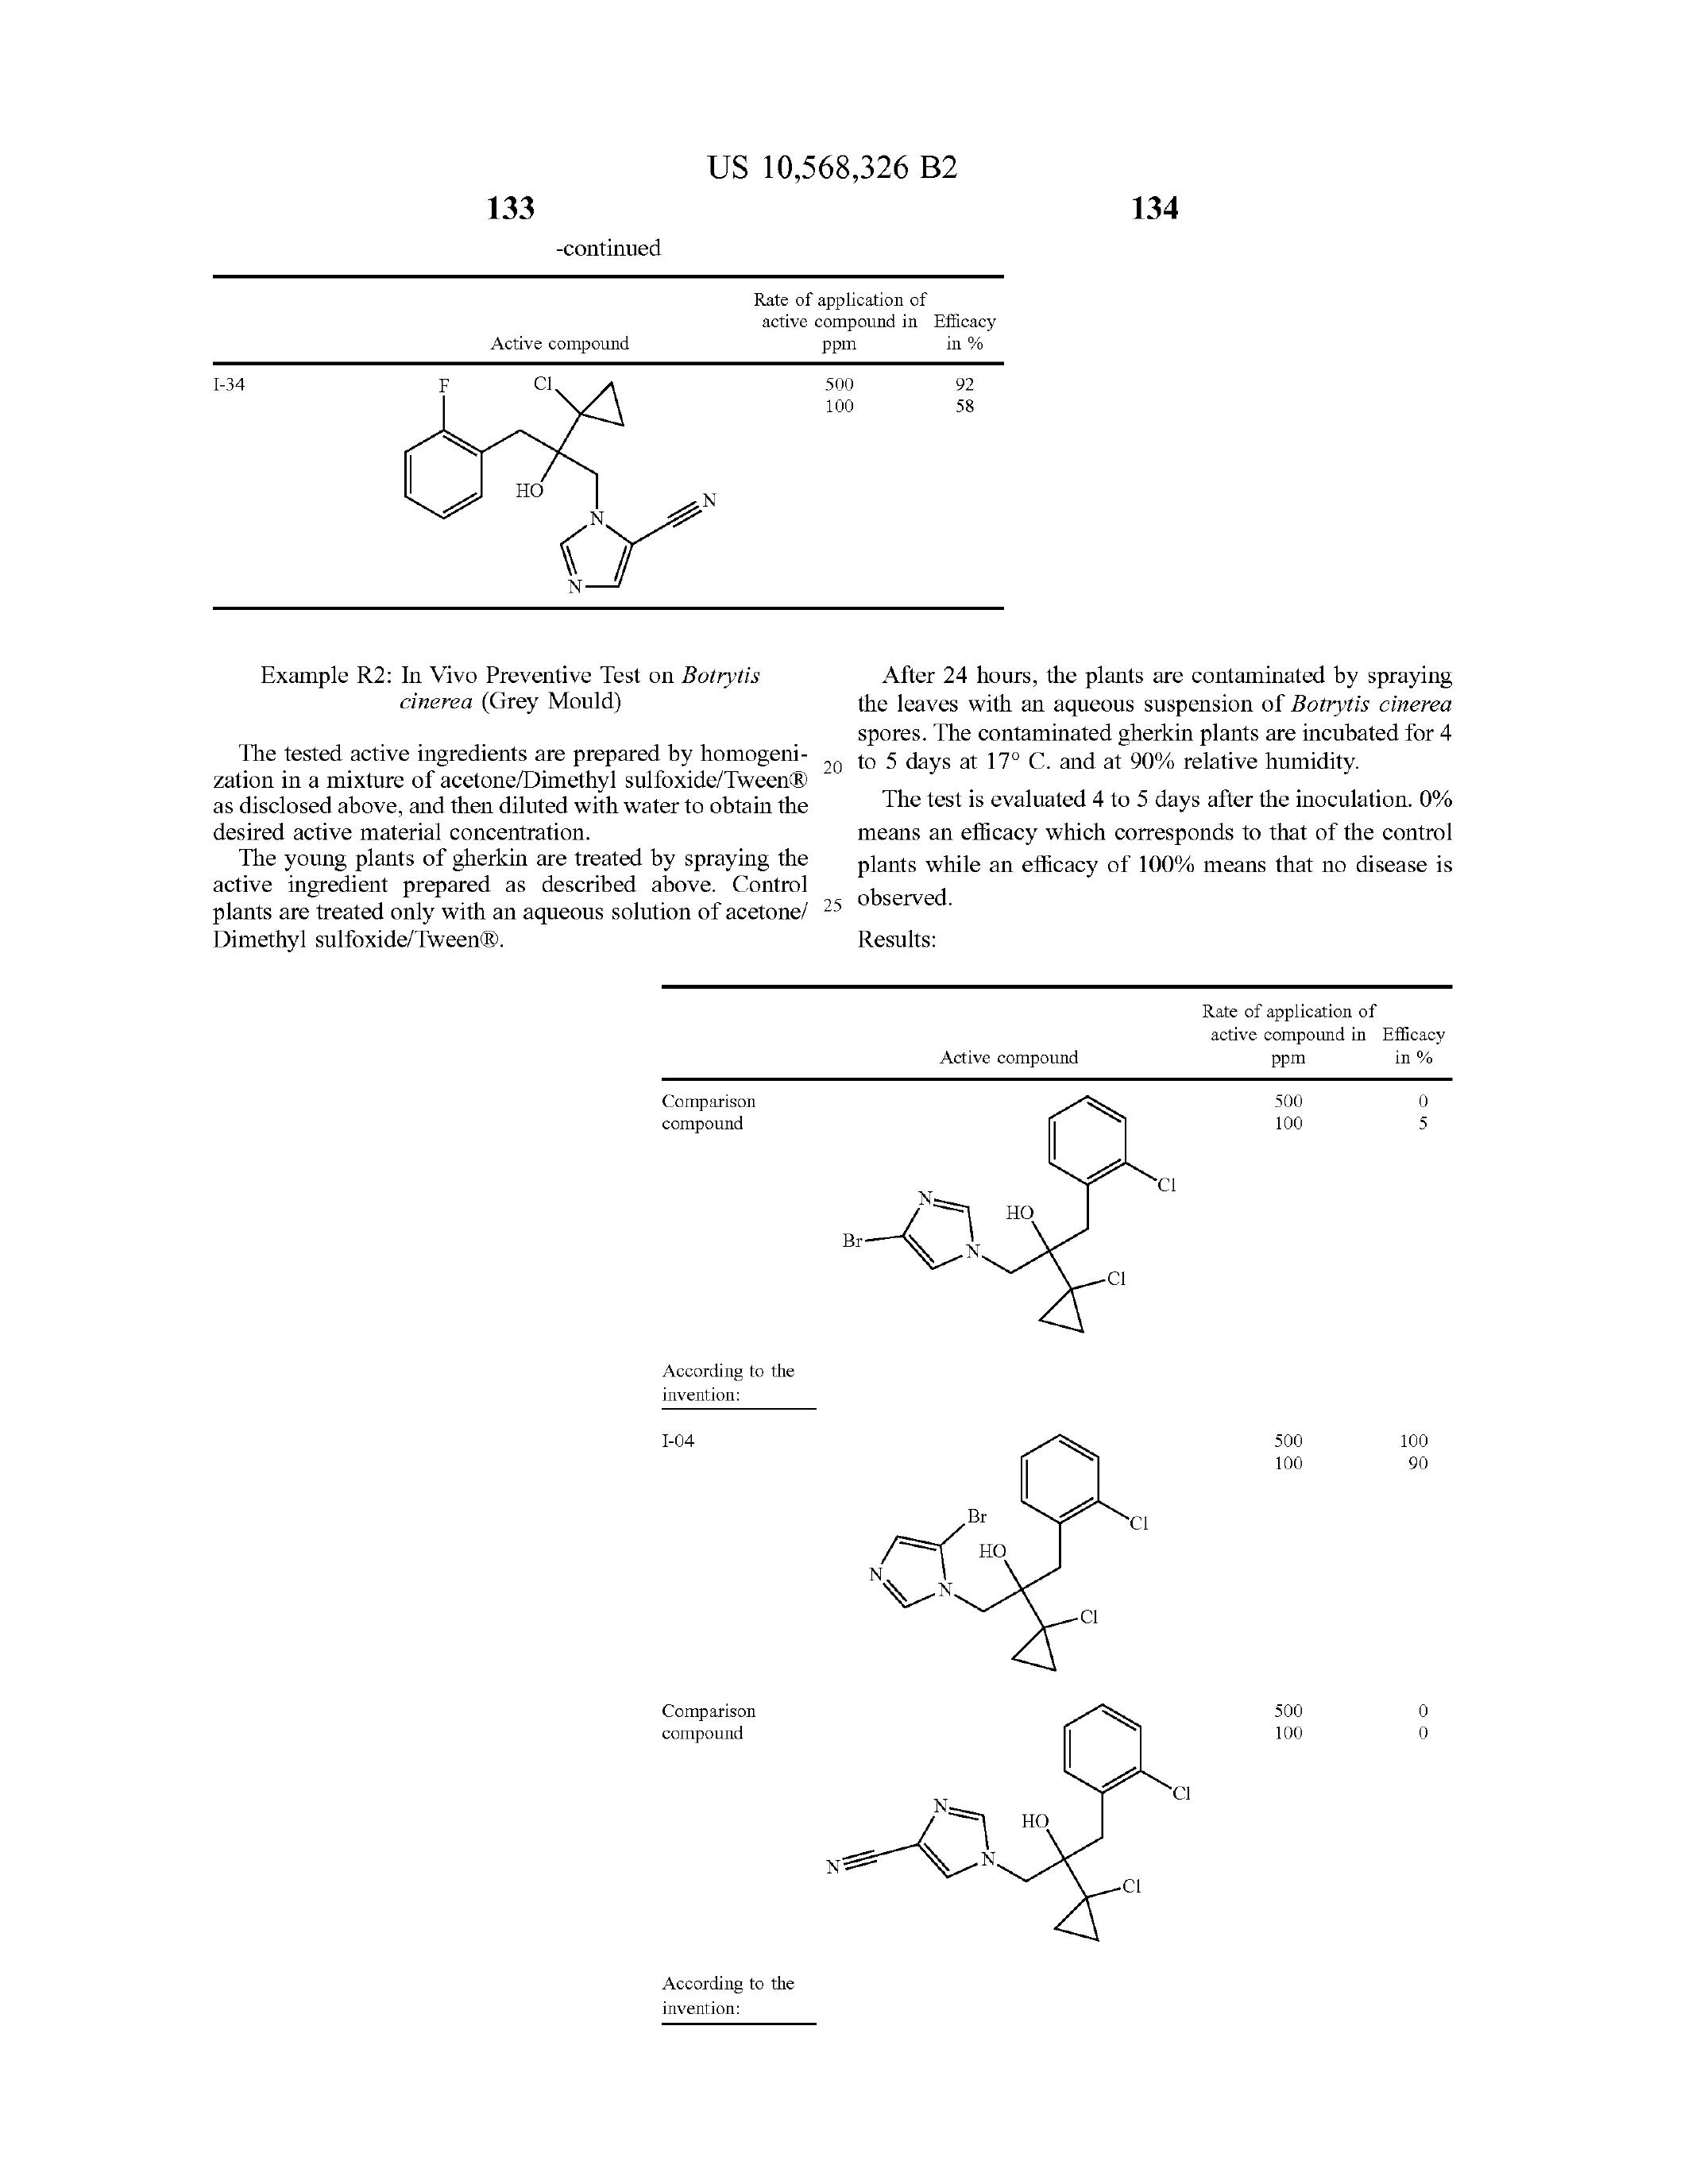relevant-structures: (812, 1709, 1255, 2049), (798, 1076, 1211, 1388), (833, 1418, 1199, 1689), (349, 367, 766, 592)
